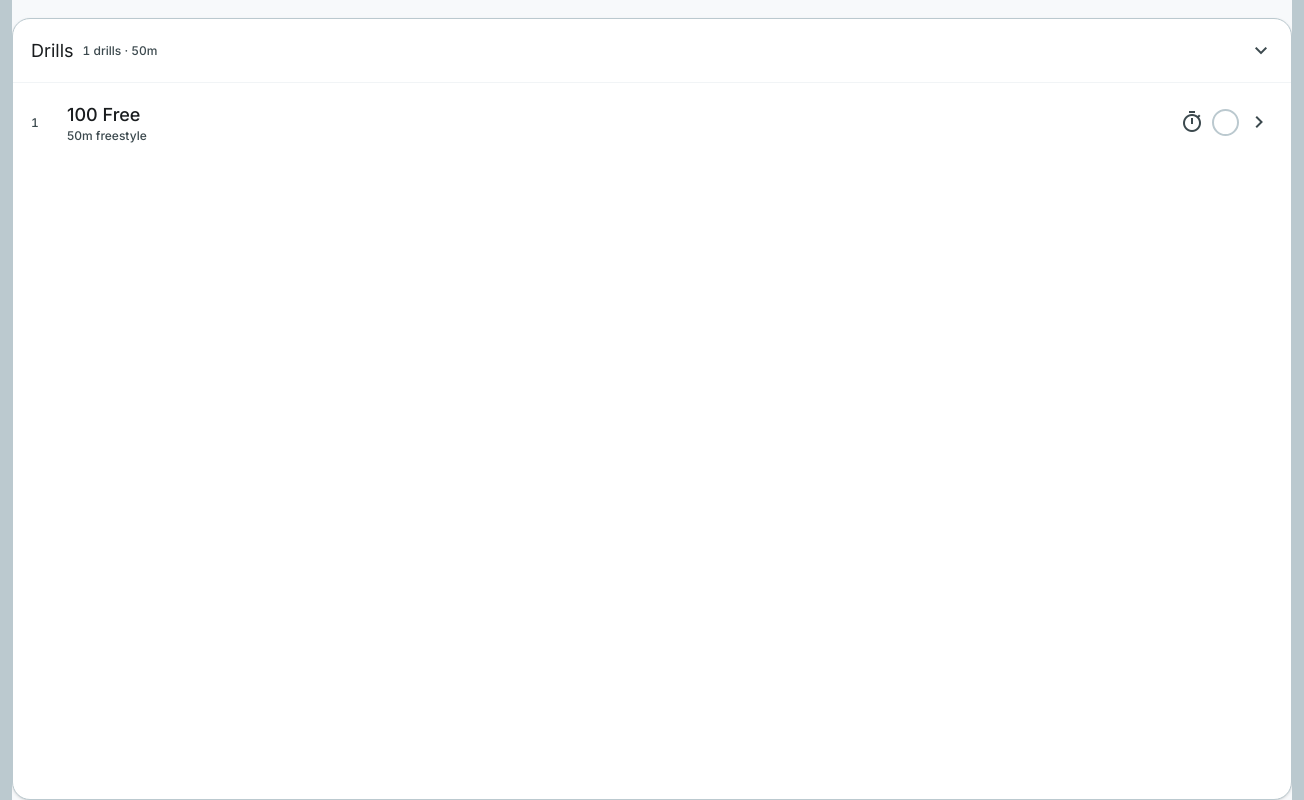
Test case: DrillsSection grouping › toggles the details panel of a single drill without hiding the name
Expected: the text "100 Free" is shown, [67, 101, 140, 128]
Expected: the text "Easy and long." is not shown
Click the button titled "Show details" at (1260, 122), box [1246, 109, 1273, 136]
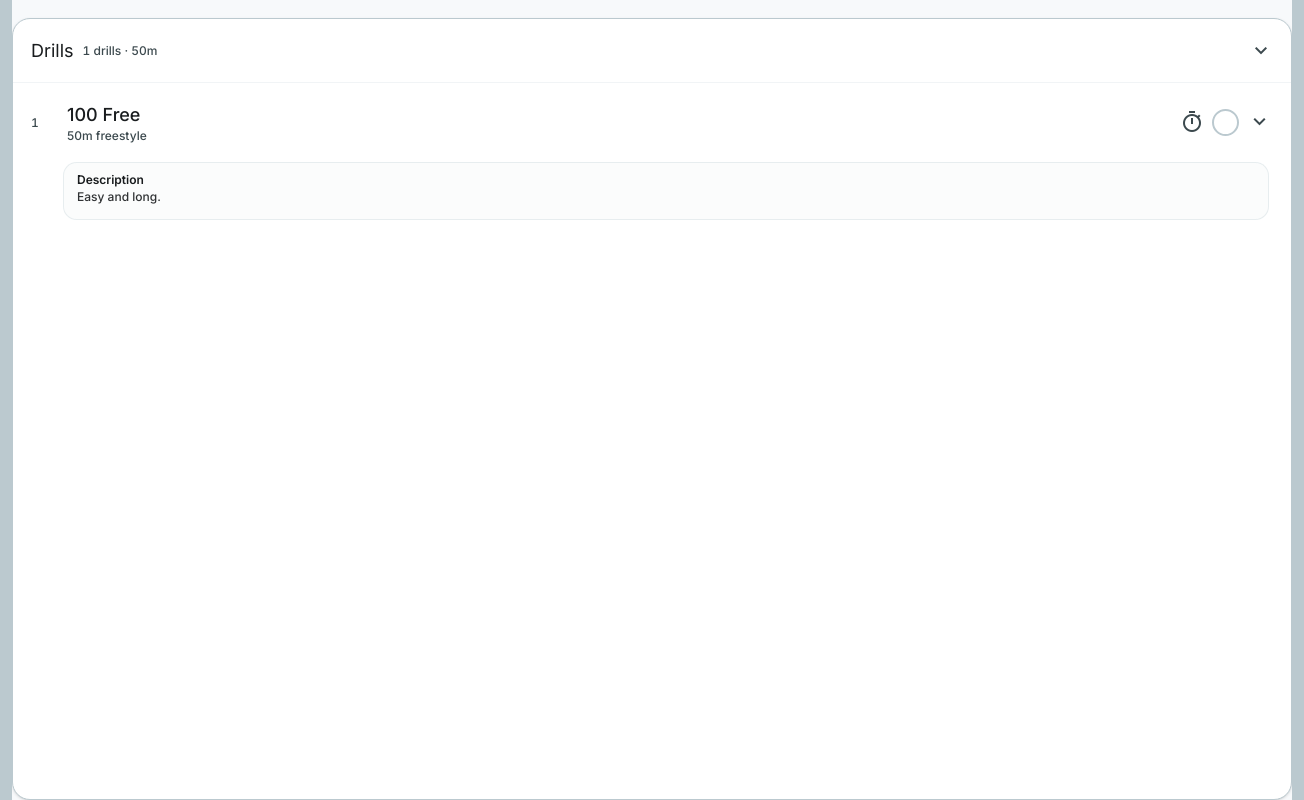
Now the text "Easy and long." is shown, box [77, 189, 161, 204]
Click the button titled "Hide details" at (1260, 122), box [1246, 109, 1273, 136]
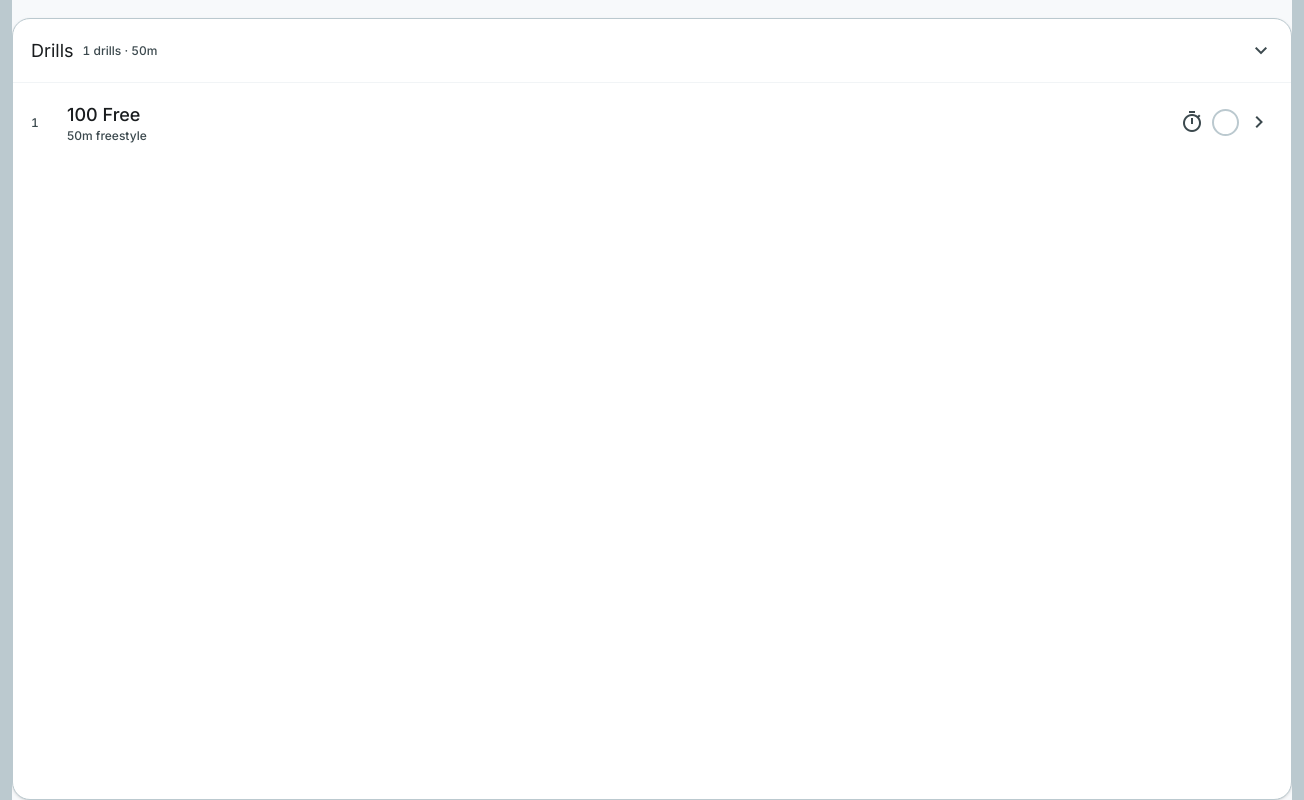
Expected: the text "100 Free" is shown, [67, 101, 140, 128]
Now the text "Easy and long." is gone
